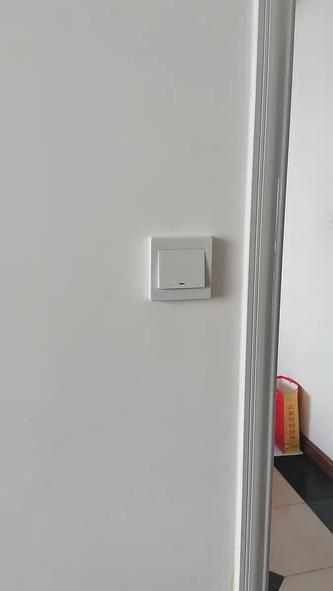switch: (152, 242, 208, 295)
